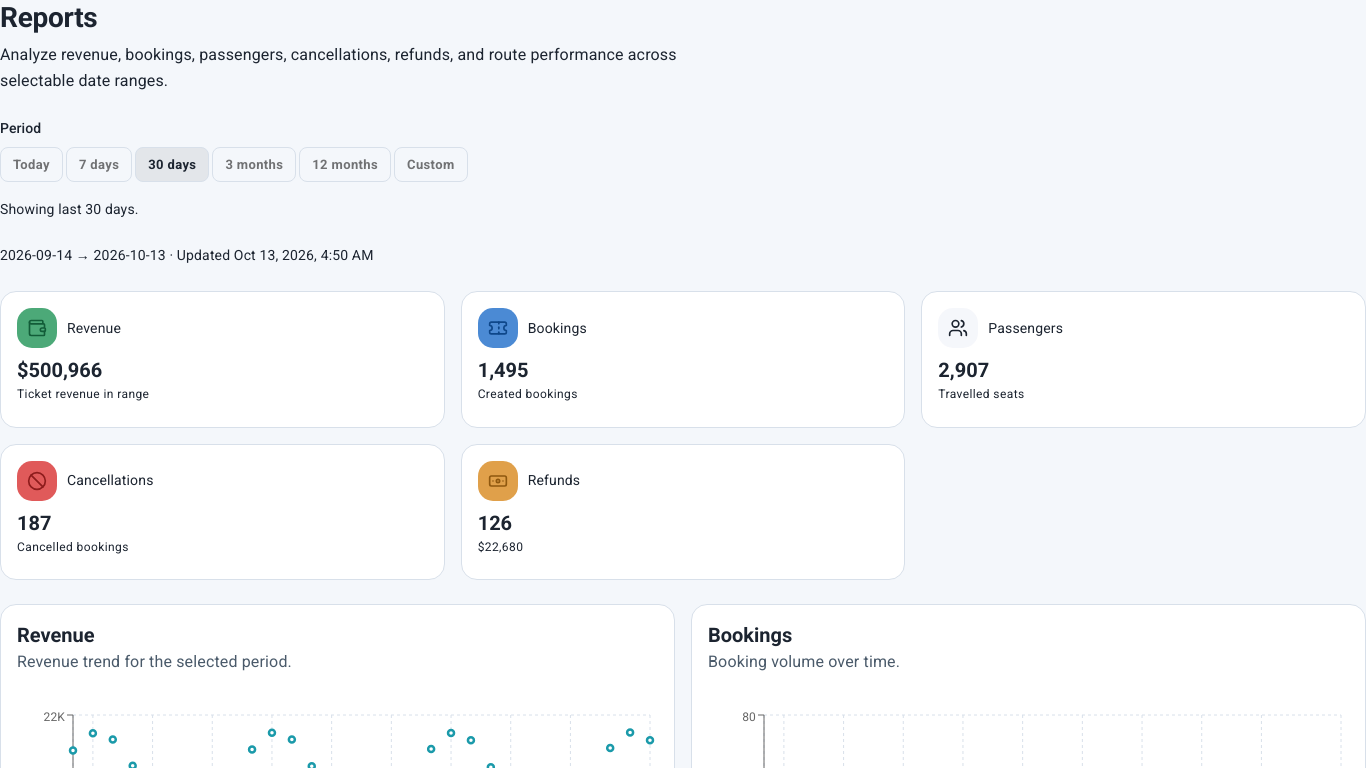
AdminReportsPage › shows custom date inputs when Custom is selected
The width and height of the screenshot is (1366, 768).
Expected: the heading "Reports" is shown, [0,1,98,34]
Click the button "Custom" at (431, 164), box [394,147,468,182]
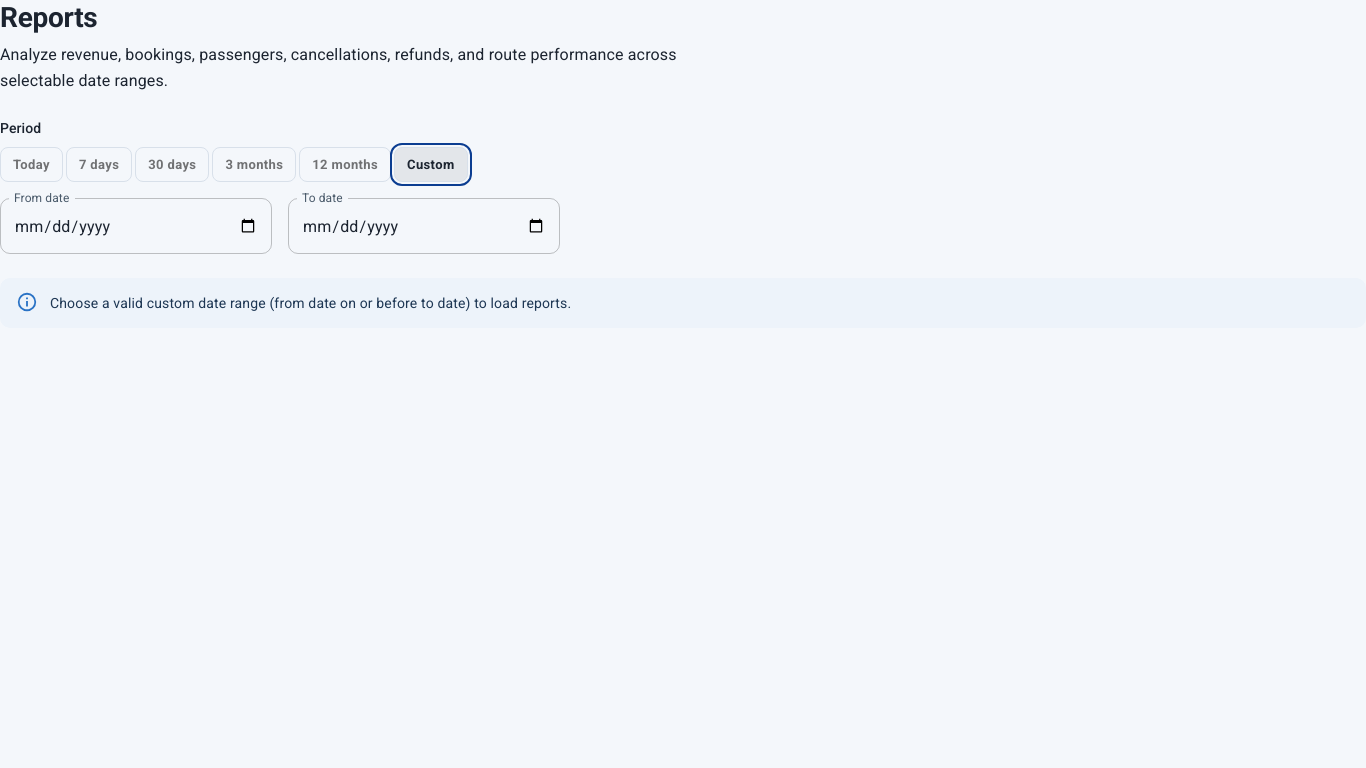
Expected: the text "Choose a valid custom date range" is shown, [50,295,571,311]
Expected: the date field labelled "From date" is shown, [0,198,272,254]
Expected: the date field labelled "To date" is shown, [288,198,560,254]
